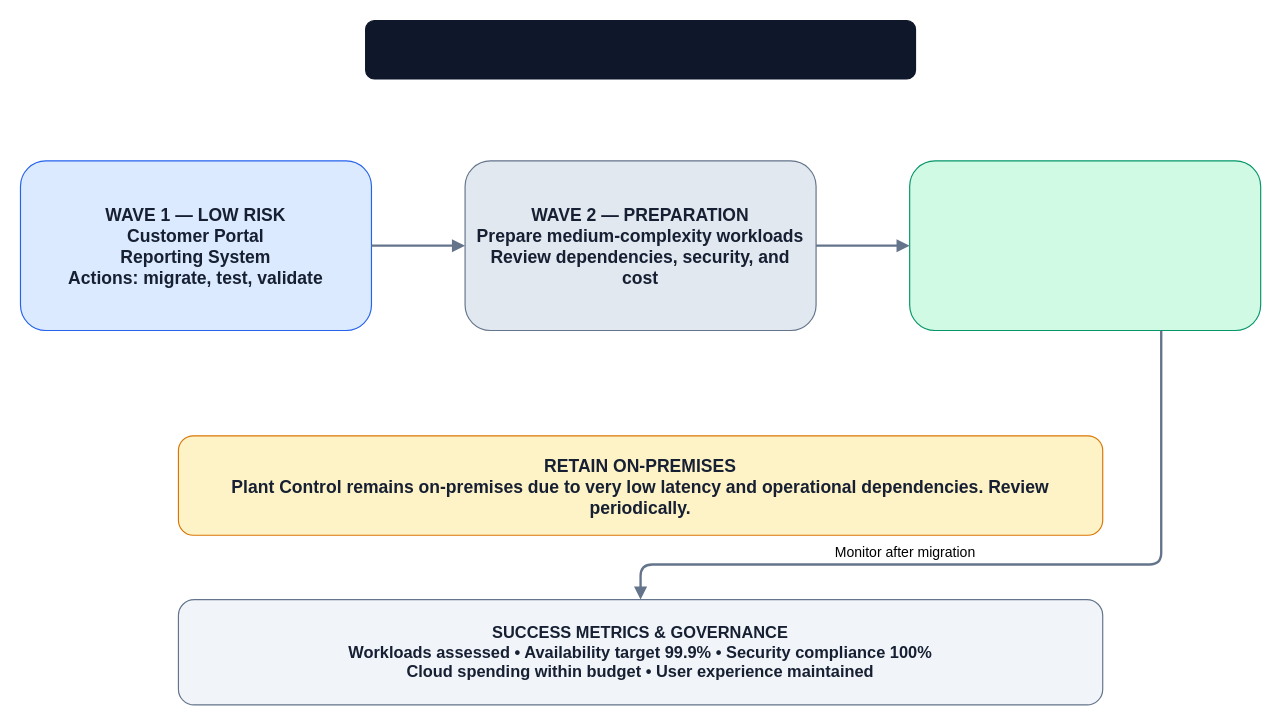
Image size: 1281x725. Some labels were removed from this diagram. Here are the shapes that lost their labels. From the top down, the centre of each, then its label:
At pixel 640 49: "MIGRATION ROADMAP".
At pixel 1085 245: "WAVE 3 — COMPLEX WORKLOAD ERP System Phased hybrid migration and validation".
